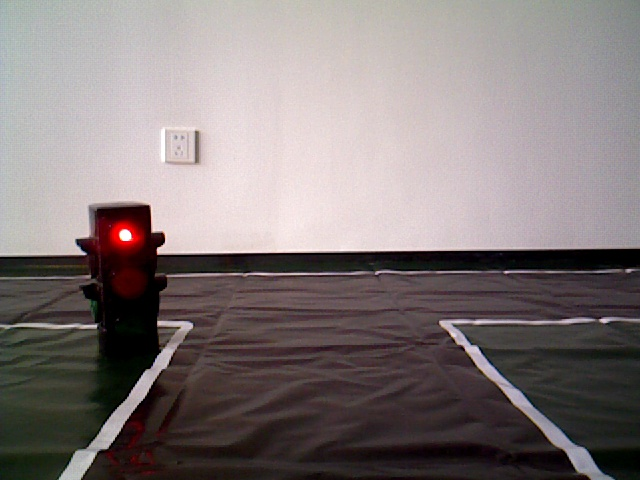red: (86, 208, 157, 349)
